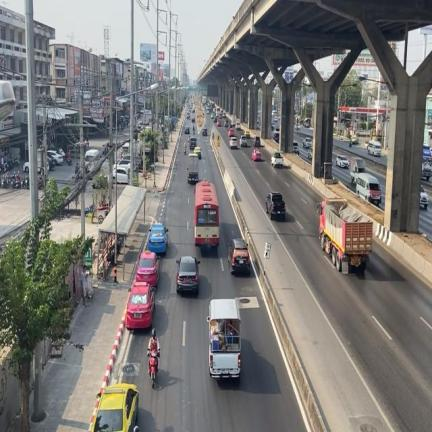bus: (195, 180, 218, 246)
car: (176, 256, 199, 292), (228, 238, 249, 273), (271, 151, 282, 167), (336, 155, 349, 168)
human: (147, 328, 159, 358)
motorbike: (148, 350, 158, 383), (9, 173, 15, 188), (1, 174, 7, 188), (14, 174, 20, 188)
pickup: (266, 192, 285, 219), (271, 151, 281, 167)
taxi: (91, 383, 138, 431), (126, 282, 154, 329), (135, 250, 159, 286), (148, 223, 168, 253)
truck: (318, 198, 372, 273), (207, 299, 240, 377), (350, 157, 364, 183), (188, 153, 198, 184)
van: (356, 173, 381, 204), (368, 140, 380, 156)
